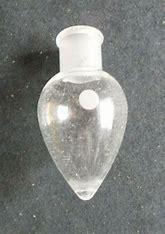Pear shaped flask: (36, 22, 127, 196)
